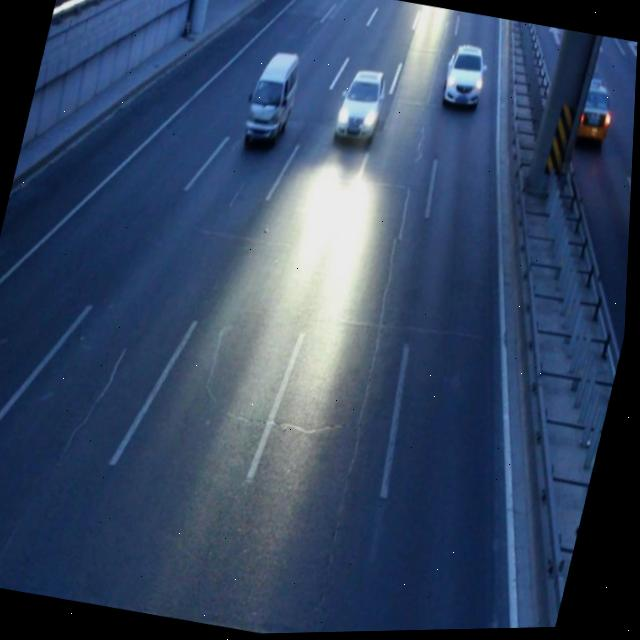car: (241, 48, 304, 149), (332, 67, 389, 147), (437, 44, 492, 114)
